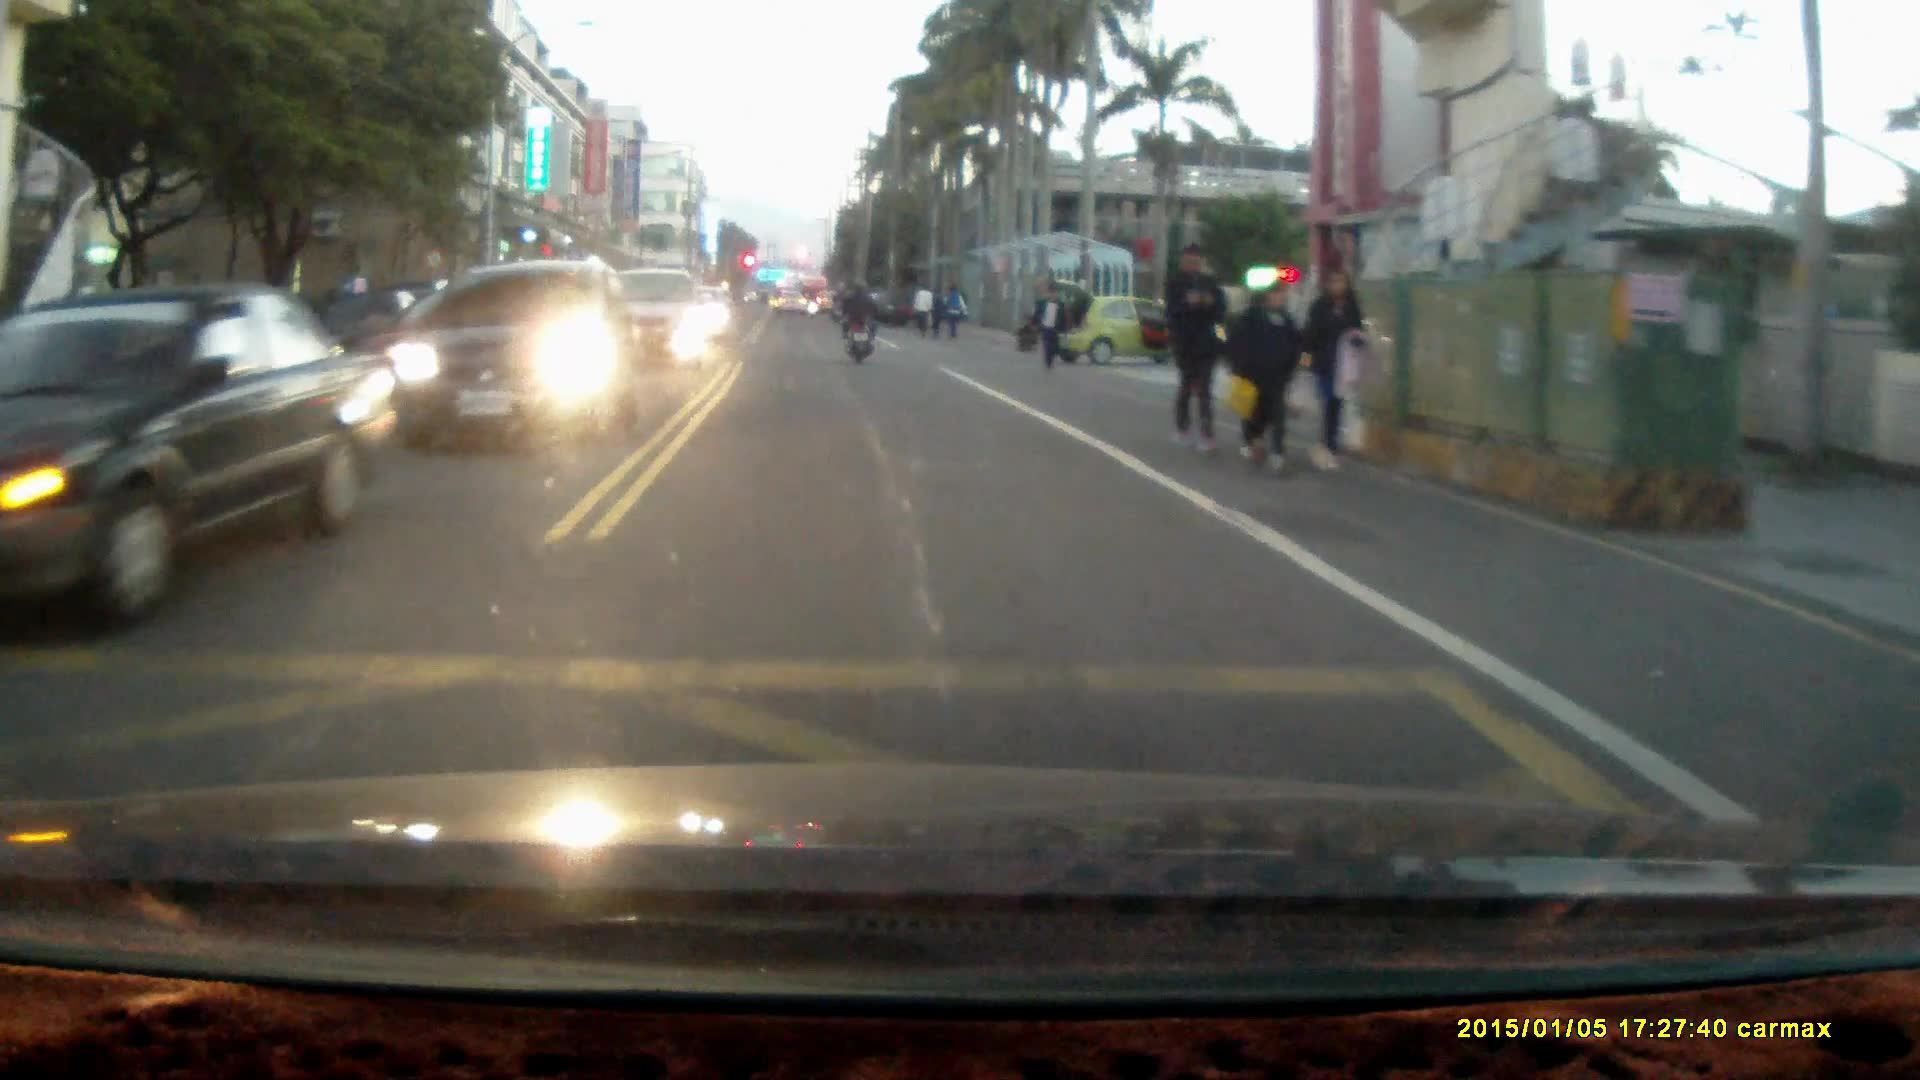pedestrian: (1225, 276, 1303, 476), (1161, 240, 1228, 461), (1302, 273, 1371, 477), (1032, 281, 1066, 374)
rider: (837, 275, 878, 364)
vehicle: (1, 280, 419, 645), (385, 257, 633, 450), (1047, 276, 1203, 367), (605, 270, 711, 372)
